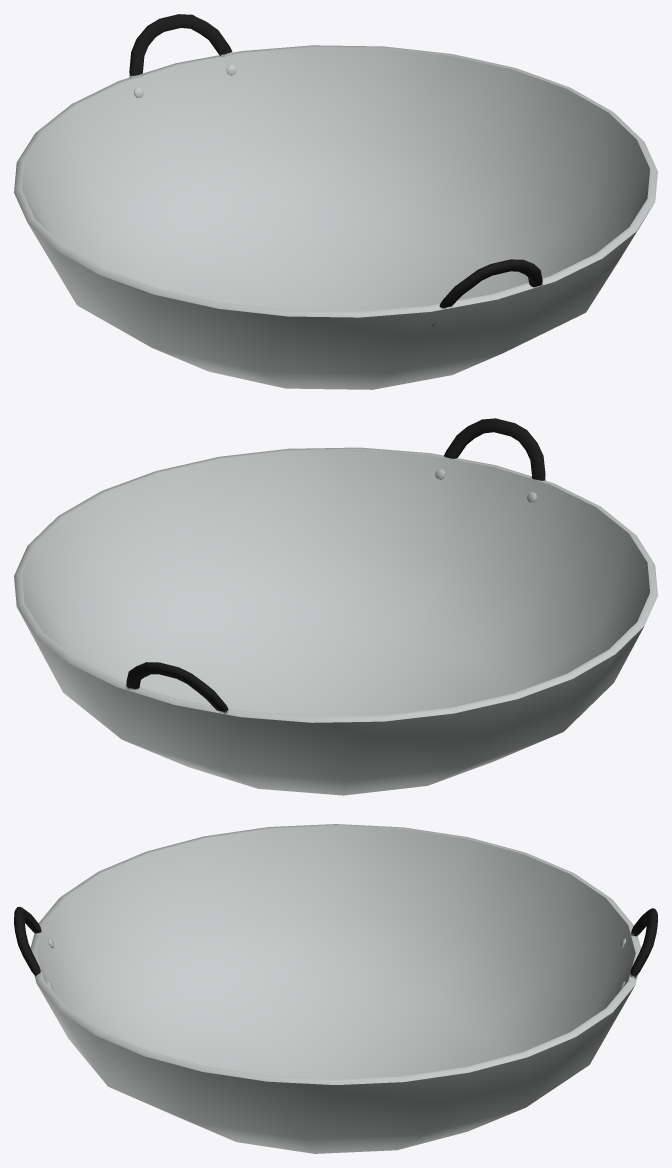
The model's file is wok.FBX.
3 views of the same model, one above another, from view 1: azimuth 30°, elevation 25°; view 2: azimuth 150°, elevation 25°; view 3: azimuth 270°, elevation 25° (orthographic). The views are drawn at different scales.
Visible parts, largest first — view 1: wok; view 2: wok; view 3: wok.
Part boxes in pixels (x1,y1,x2,y2): wok: (14, 14, 657, 389); wok: (14, 418, 657, 795); wok: (14, 824, 657, 1153).
Size of the model in its own units: 49.11 by 16.95 by 51.48.
Materials: 1 (1 with a texture image).
